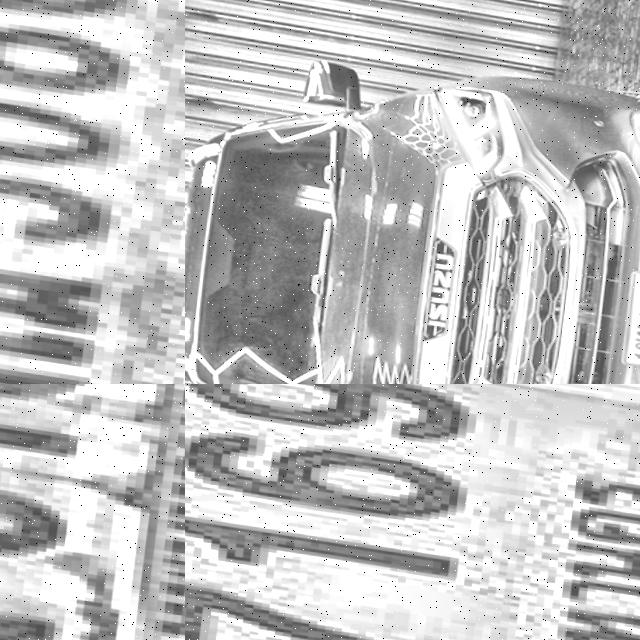license-plate: (185, 384, 640, 640), (0, 0, 185, 384), (0, 384, 185, 640), (619, 259, 640, 367)
